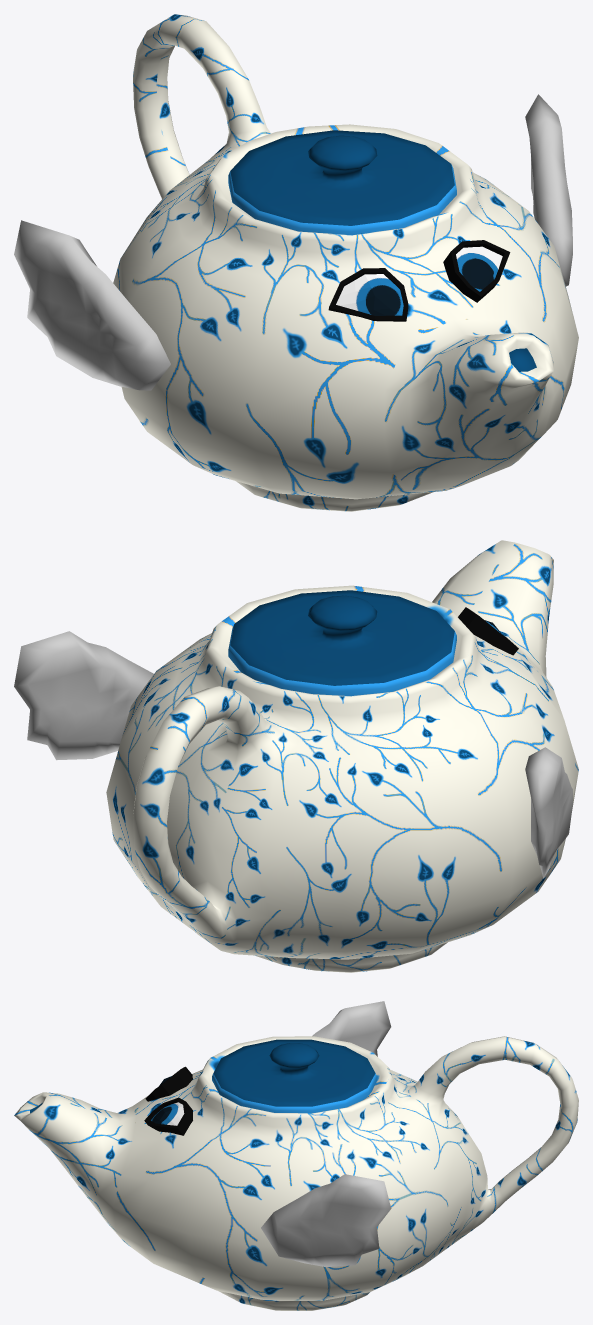
The model's file is FlyingRanged.fbx.
3 views of the same model, one above another, from view 1: azimuth 30°, elevation 25°; view 2: azimuth 150°, elevation 25°; view 3: azimuth 270°, elevation 25° (orthographic). The views are drawn at different scales.
Visible parts, largest first — view 1: Cylinder, Wings, Cylinder.001, Eye Right.001, Eye Right; view 2: Cylinder, Cylinder.001, Wings, Eye Right.001; view 3: Cylinder, Wings, Cylinder.001, Eye Right, Eye Right.001.
Boxes of the visible parts, left/top/right/bottom form: Cylinder: left=113, top=14, right=578, bottom=511; Wings: left=14, top=94, right=572, bottom=390; Cylinder.001: left=228, top=130, right=456, bottom=234; Eye Right.001: left=328, top=268, right=408, bottom=321; Eye Right: left=443, top=240, right=510, bottom=302; Cylinder: left=106, top=540, right=578, bottom=972; Cylinder.001: left=228, top=590, right=456, bottom=695; Wings: left=14, top=631, right=572, bottom=878; Eye Right.001: left=458, top=607, right=518, bottom=655; Cylinder: left=14, top=1036, right=578, bottom=1310; Wings: left=261, top=1001, right=391, bottom=1267; Cylinder.001: left=212, top=1039, right=376, bottom=1113; Eye Right: left=144, top=1097, right=192, bottom=1135; Eye Right.001: left=145, top=1066, right=192, bottom=1101.
Bounding box in the file's own units: 377 × 232 × 493.
